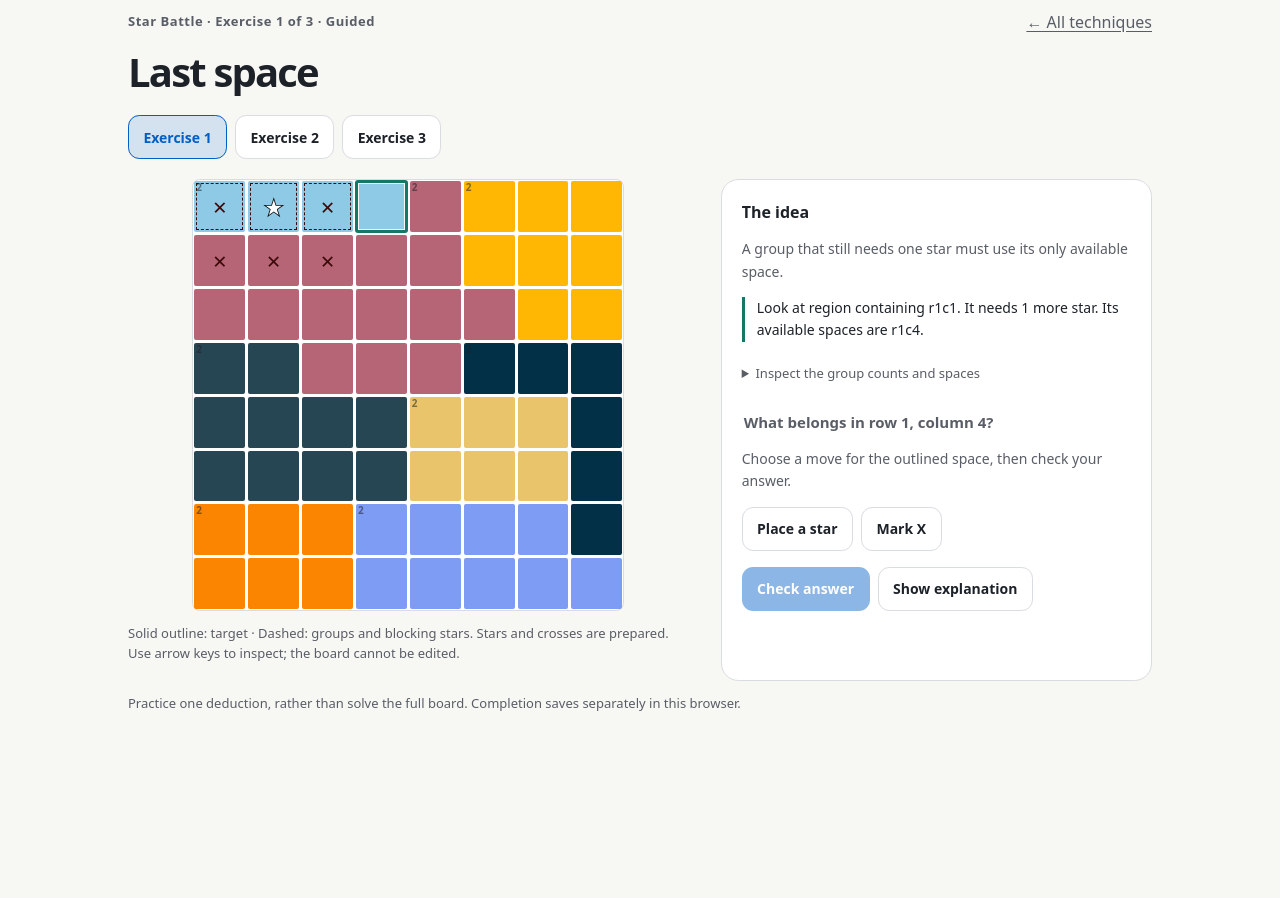
Test case: requires deliberate correct checking for star-battle-last-space and leaves other game storage intact
Expected: the button "Check answer" is disabled, left=742, top=566, right=870, bottom=610
Expected: the text with class "lesson-cue" is shown, left=742, top=297, right=1131, bottom=342
What coordinates should you click on to do the following:
click the button "Mark X"
I would click on:
 (901, 528)
Its box is left=861, top=506, right=942, bottom=550.
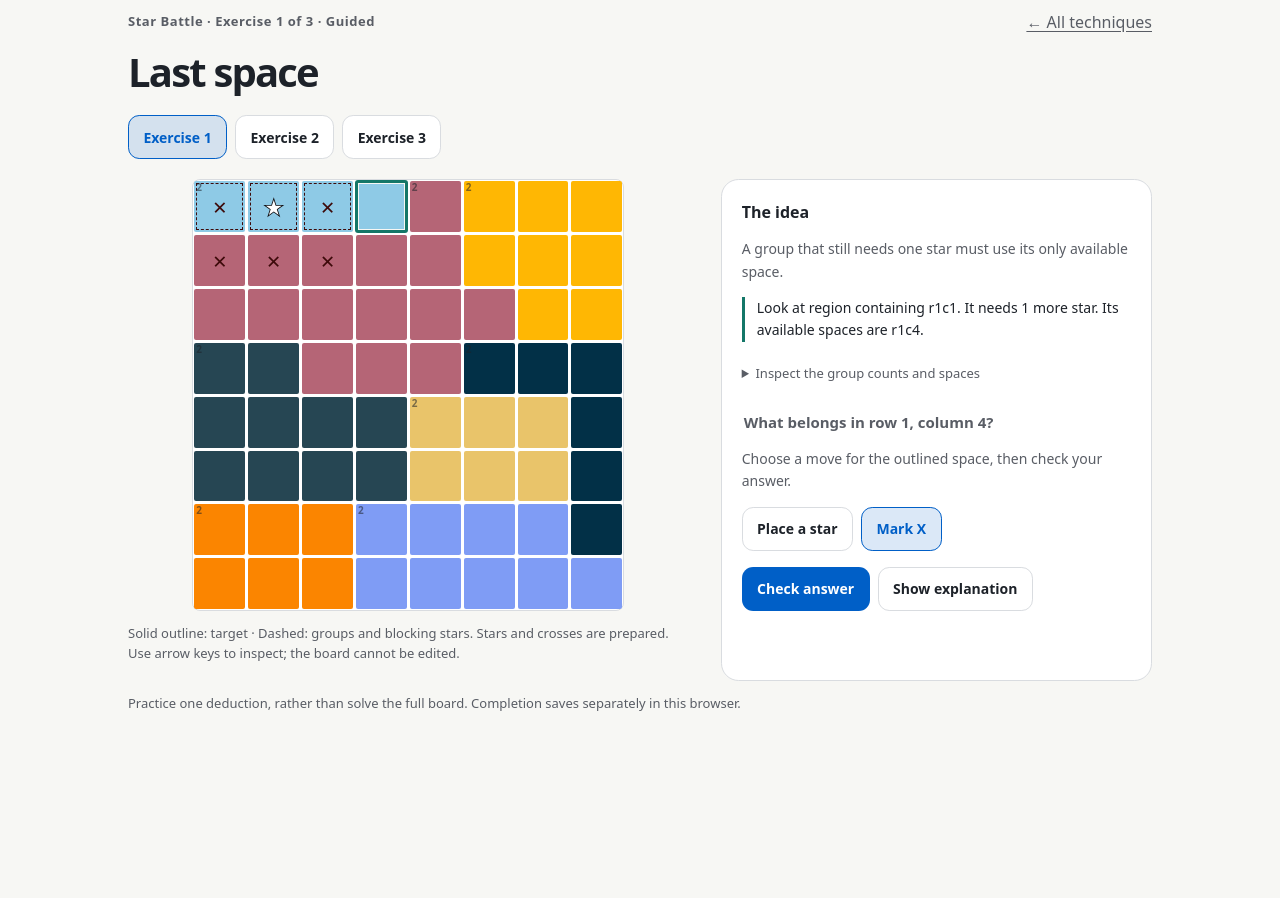
What coordinates should you click on to do the following:
click the button "Check answer"
I would click on:
 (806, 588)
Its box is left=742, top=566, right=870, bottom=610.
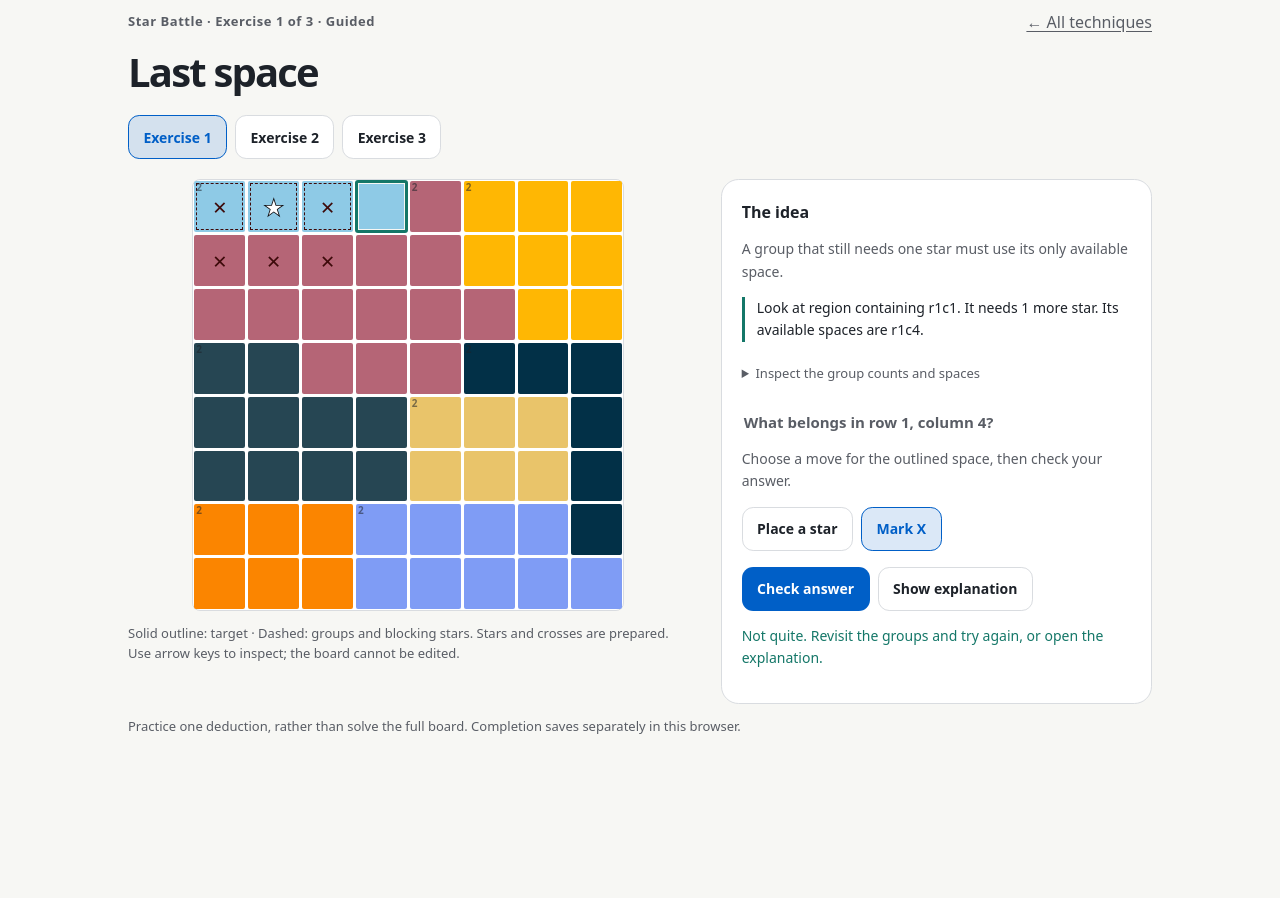
Expected: the message "Not quite. Revisit the groups and try again, or open the explanation." is shown, left=742, top=624, right=1131, bottom=669
What coordinates should you click on to do the following:
click the button "Show explanation"
I would click on:
 (955, 588)
Its box is left=878, top=566, right=1033, bottom=610.
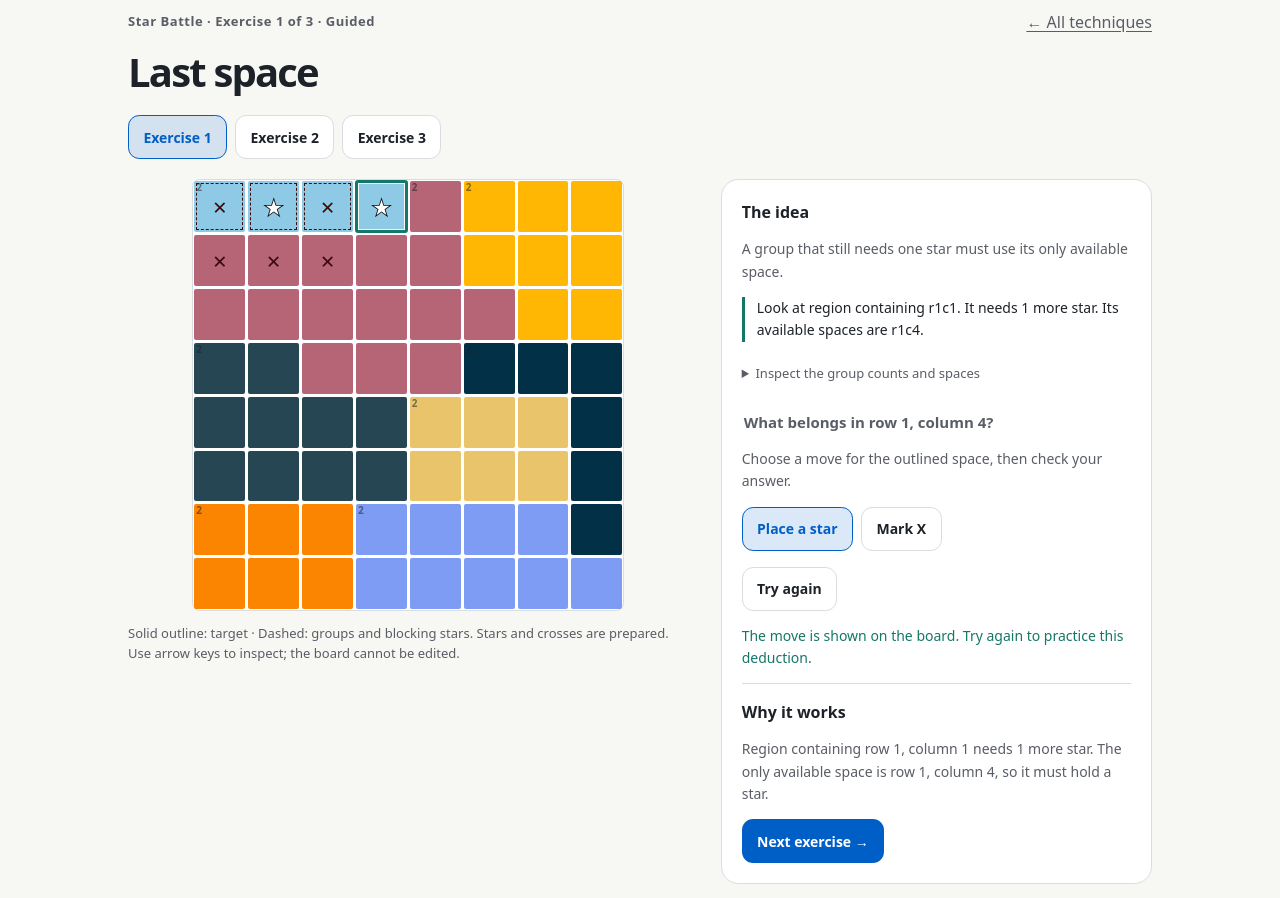
Expected: the element that starts with "What belongs in" is disabled, left=742, top=411, right=1131, bottom=551
What coordinates should you click on to do the following:
click the button "Try again"
I would click on:
 (789, 588)
Its box is left=742, top=566, right=837, bottom=610.
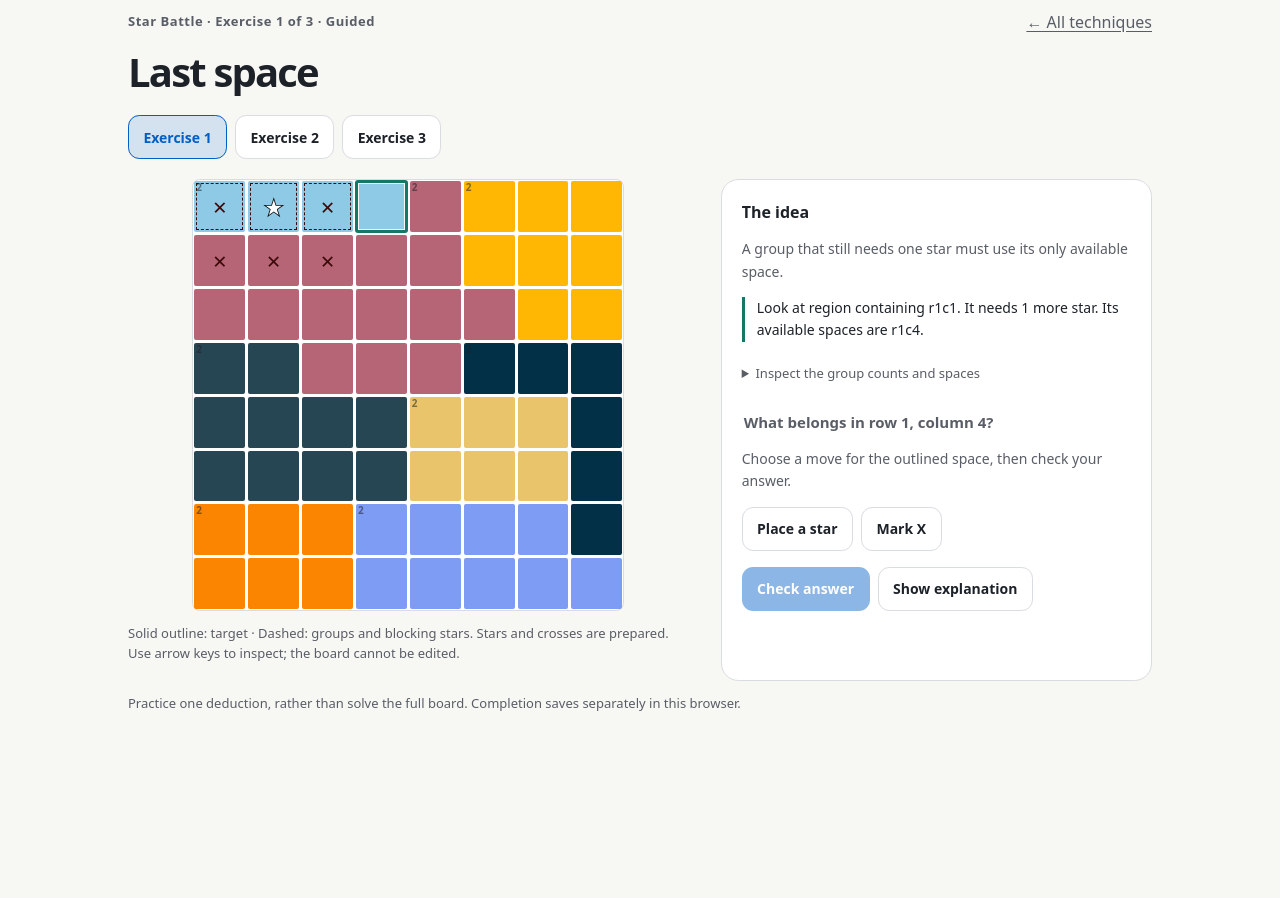
Expected: the button "Check answer" is disabled, left=742, top=566, right=870, bottom=610
What coordinates should you click on to do the following:
click the button "Place a star"
I would click on:
 (797, 528)
Its box is left=742, top=506, right=853, bottom=550.
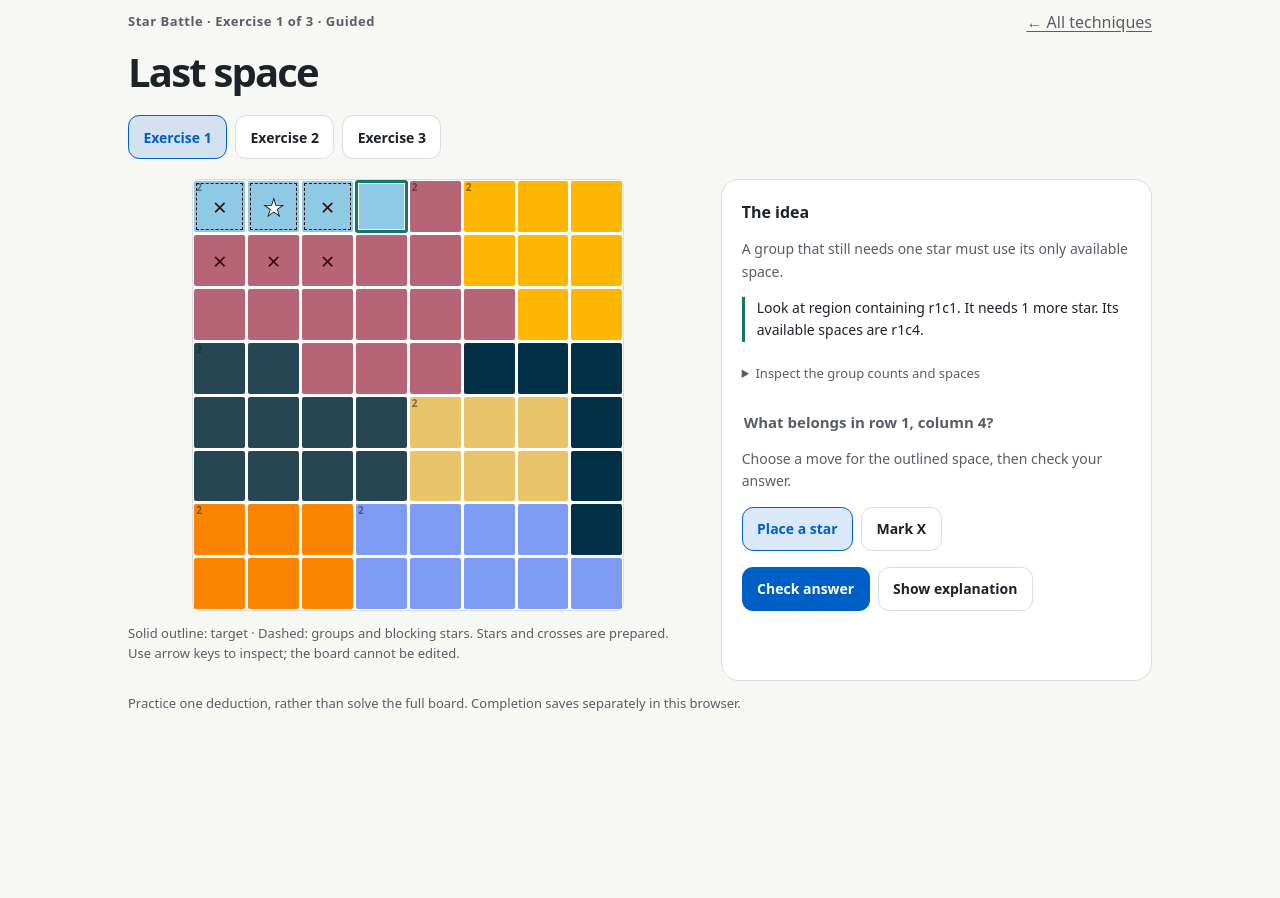
What coordinates should you click on to do the following:
click the button "Check answer"
I would click on:
 (806, 588)
Its box is left=742, top=566, right=870, bottom=610.
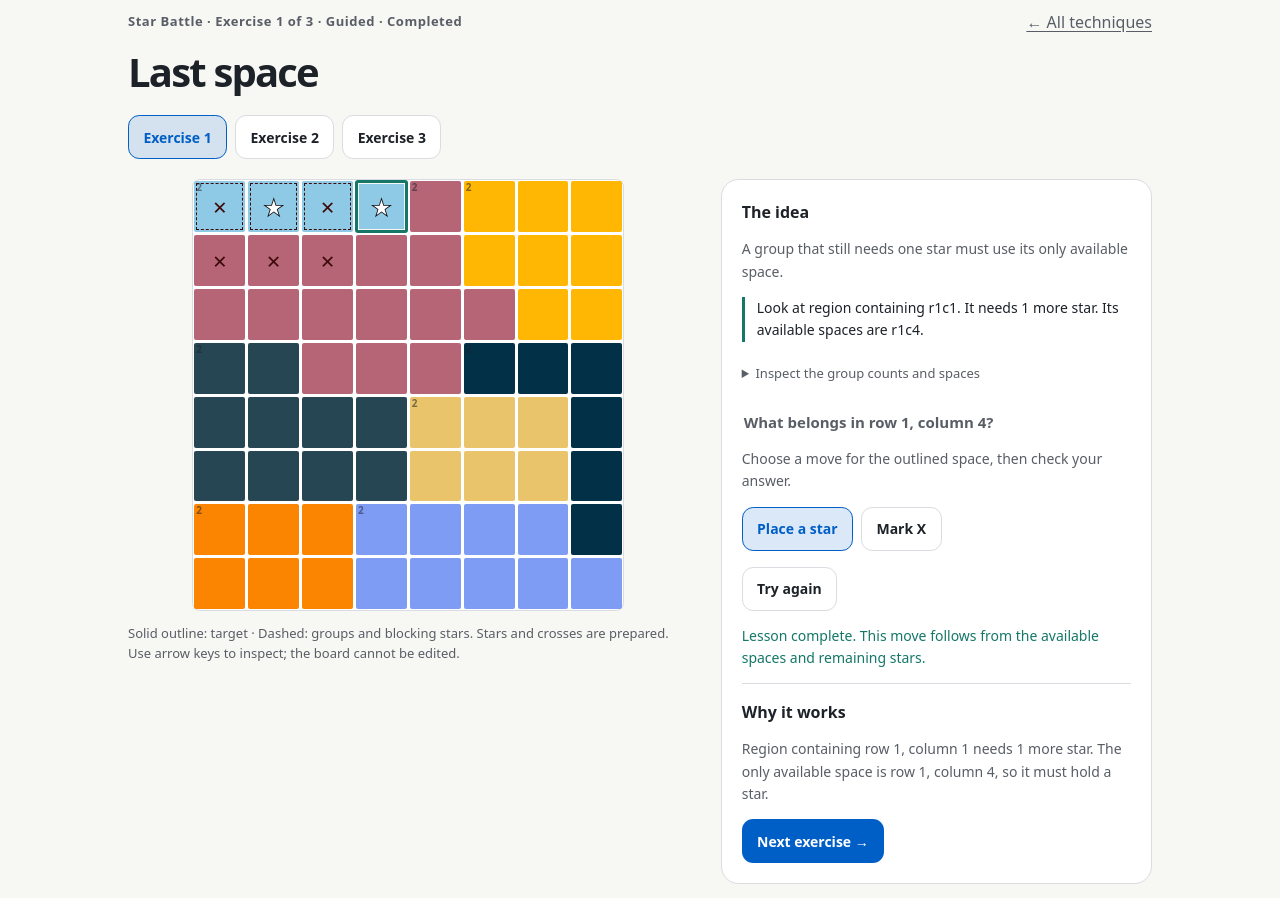
Expected: the message shows "Lesson complete", left=742, top=626, right=1099, bottom=667
